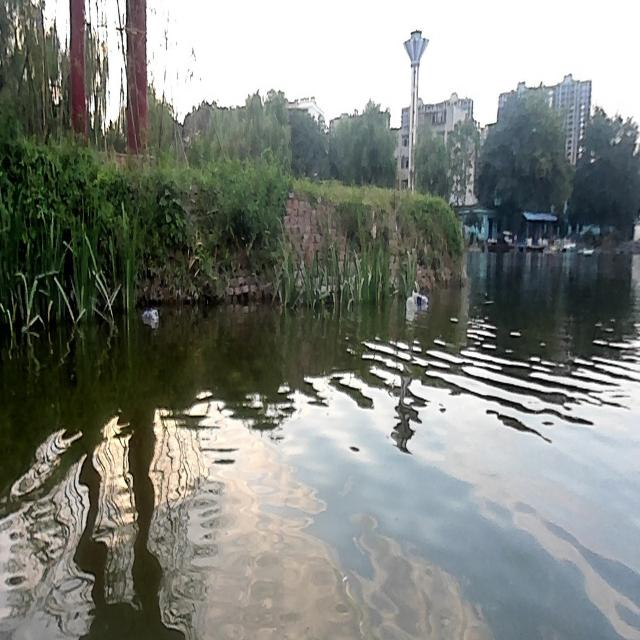bottle: (140, 305, 158, 322), (412, 289, 428, 308), (404, 293, 416, 314)
